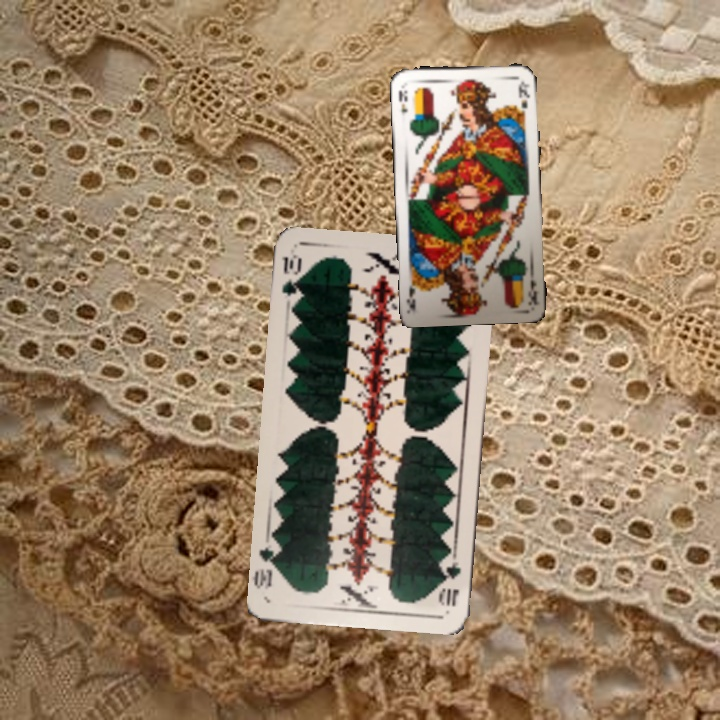EK: (525, 275, 542, 306), (394, 86, 410, 116)
G10: (437, 557, 463, 609), (278, 249, 305, 299)
